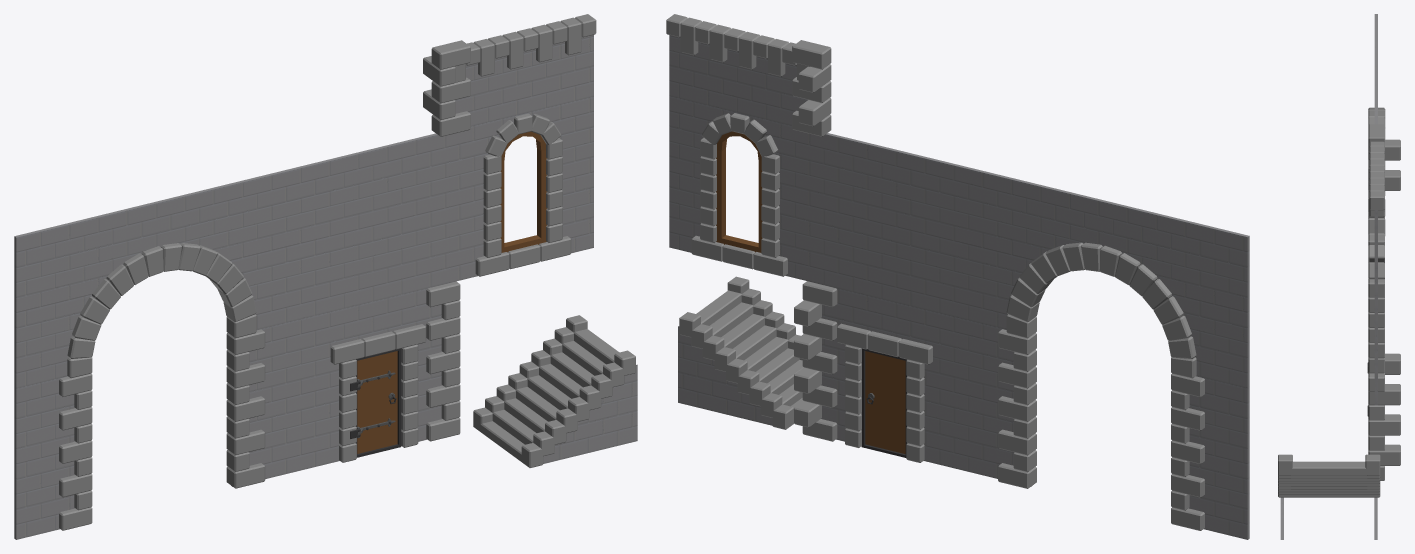
The model's file is CastleTiles.fbx.
3 renders of one model, left to right at view 1: azimuth 30°, elevation 25°; view 2: azimuth 150°, elevation 25°; view 3: azimuth 270°, elevation 25°, orthographic. The views are drawn at different scales.
Parts seen in each view (by area): view 1: LargeStoneDoorWay_20x20, StoneWall_10x10, SmallStoneWindow_10x10, StoneStairs_10x10x5, StoneDoorWaySmall_10x10, HalfStoneWall_10x5, StoneWallEdge_1x10, SmallWoodenDoor, HalfStoneWallTop_10x1, HalfStoneWallEdge_1x5; view 2: LargeStoneDoorWay_20x20, StoneWall_10x10, SmallStoneWindow_10x10, StoneDoorWaySmall_10x10, StoneStairs_10x10x5, HalfStoneWall_10x5, StoneWallEdge_1x10, SmallWoodenDoor, HalfStoneWallTop_10x1, HalfStoneWallEdge_1x5; view 3: StoneStairs_10x10x5, SmallStoneWindow_10x10, StoneWallEdge_1x10, HalfStoneWallEdge_1x5, HalfStoneWallTop_10x1, LargeStoneDoorWay_20x20, HalfStoneWall_10x5.
Part boxes in pixels (x1=…): LargeStoneDoorWay_20x20: x1=14, y1=166, x2=304, y2=539; StoneWall_10x10: x1=303, y1=133, x2=449, y2=318; SmallStoneWindow_10x10: x1=449, y1=96, x2=593, y2=282; StoneStairs_10x10x5: x1=473, y1=315, x2=637, y2=467; StoneDoorWaySmall_10x10: x1=305, y1=288, x2=442, y2=469; HalfStoneWall_10x5: x1=455, y1=35, x2=593, y2=126; StoneWallEdge_1x10: x1=426, y1=281, x2=460, y2=441; SmallWoodenDoor: x1=356, y1=348, x2=401, y2=457; HalfStoneWallTop_10x1: x1=455, y1=14, x2=596, y2=82; HalfStoneWallEdge_1x5: x1=423, y1=40, x2=470, y2=136; LargeStoneDoorWay_20x20: x1=958, y1=165, x2=1249, y2=539; StoneWall_10x10: x1=814, y1=133, x2=959, y2=317; SmallStoneWindow_10x10: x1=669, y1=96, x2=813, y2=282; StoneDoorWaySmall_10x10: x1=821, y1=288, x2=958, y2=469; StoneStairs_10x10x5: x1=678, y1=276, x2=803, y2=429; HalfStoneWall_10x5: x1=669, y1=35, x2=807, y2=125; StoneWallEdge_1x10: x1=794, y1=281, x2=837, y2=441; SmallWoodenDoor: x1=861, y1=348, x2=907, y2=457; HalfStoneWallTop_10x1: x1=666, y1=14, x2=810, y2=80; HalfStoneWallEdge_1x5: x1=792, y1=40, x2=831, y2=136; StoneStairs_10x10x5: x1=1278, y1=454, x2=1380, y2=539; SmallStoneWindow_10x10: x1=1368, y1=233, x2=1384, y2=405; StoneWallEdge_1x10: x1=1368, y1=353, x2=1400, y2=480; HalfStoneWallEdge_1x5: x1=1368, y1=124, x2=1400, y2=212; HalfStoneWallTop_10x1: x1=1369, y1=141, x2=1384, y2=216; LargeStoneDoorWay_20x20: x1=1368, y1=14, x2=1385, y2=235; HalfStoneWall_10x5: x1=1374, y1=210, x2=1377, y2=268.
Bounding box in the file's own units: 15201 × 9754 × 3101.
